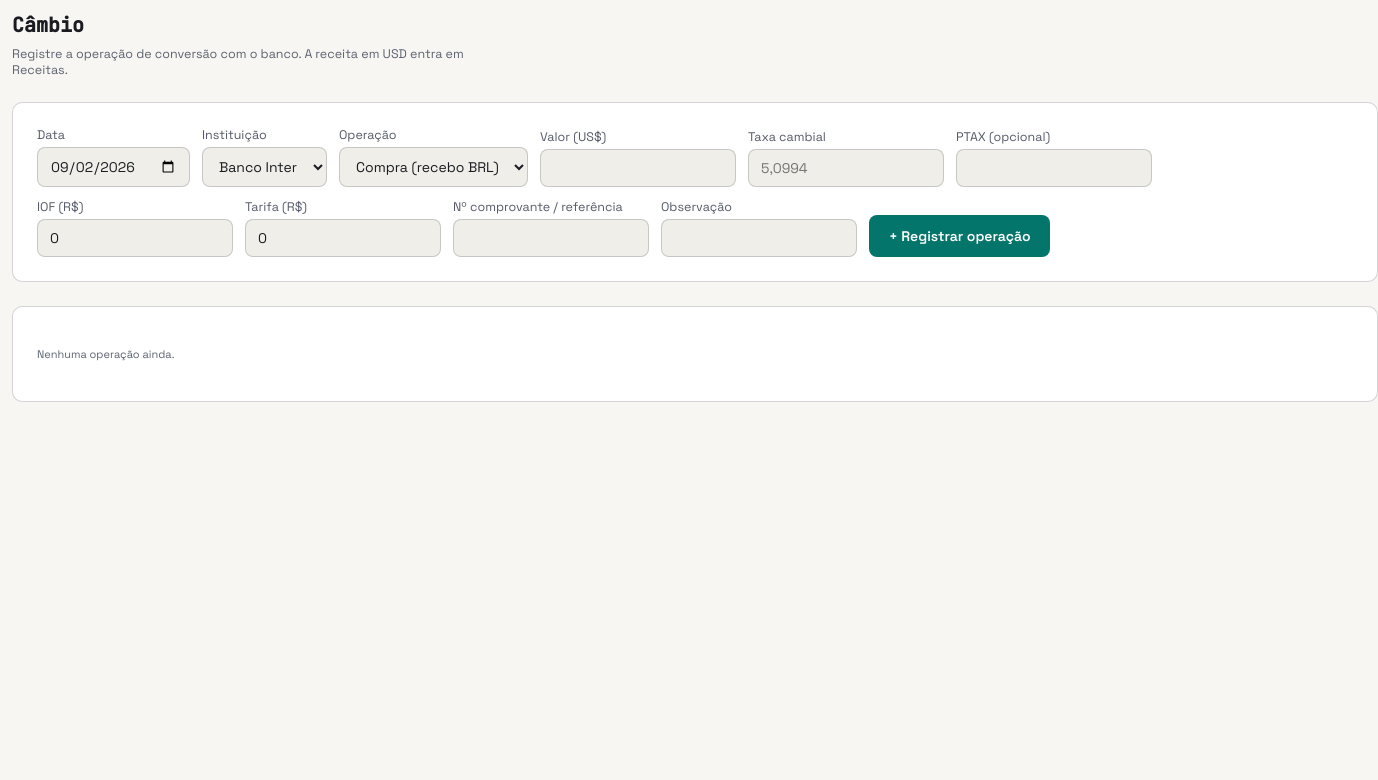
Scenario: CambioPage › shows a live BRL-líquido preview once amount and rate are entered
In the field labelled "Valor (US$)": [638, 168] box 540,149 -> 736,187, type "5000"
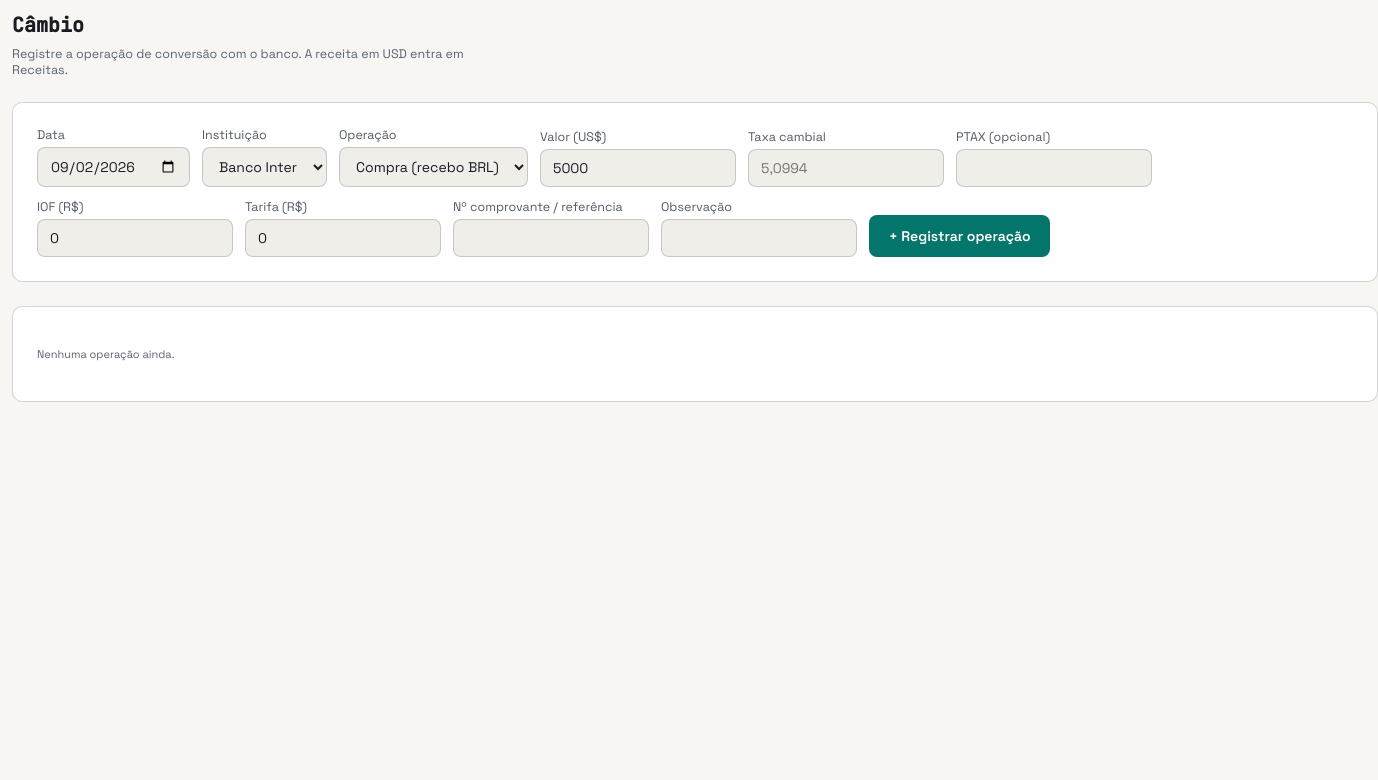
In the field labelled "Taxa cambial": [846, 168] box 748,149 -> 944,187, type "5.0994"
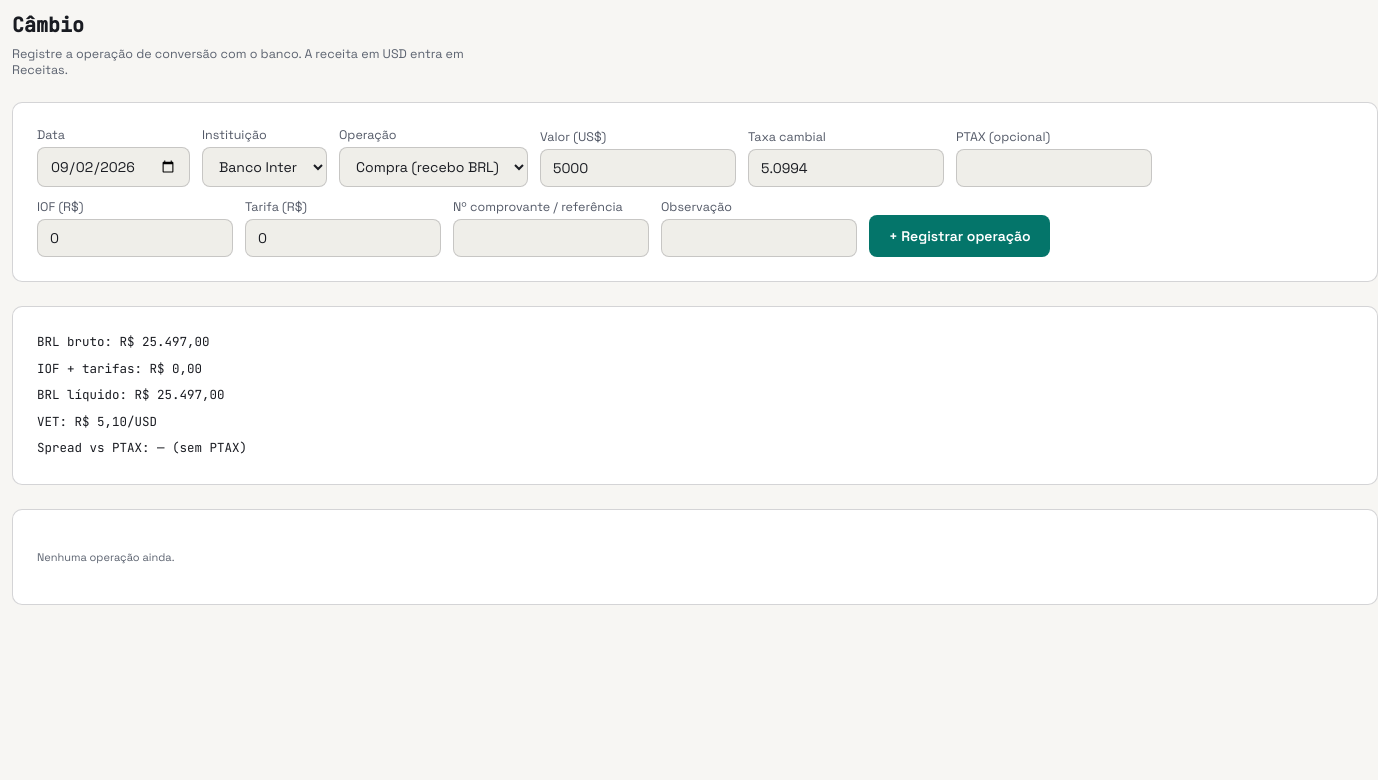
Replace the text in the field labelled "IOF (R$)" with "653,18": [135, 238] box 37,219 -> 233,257
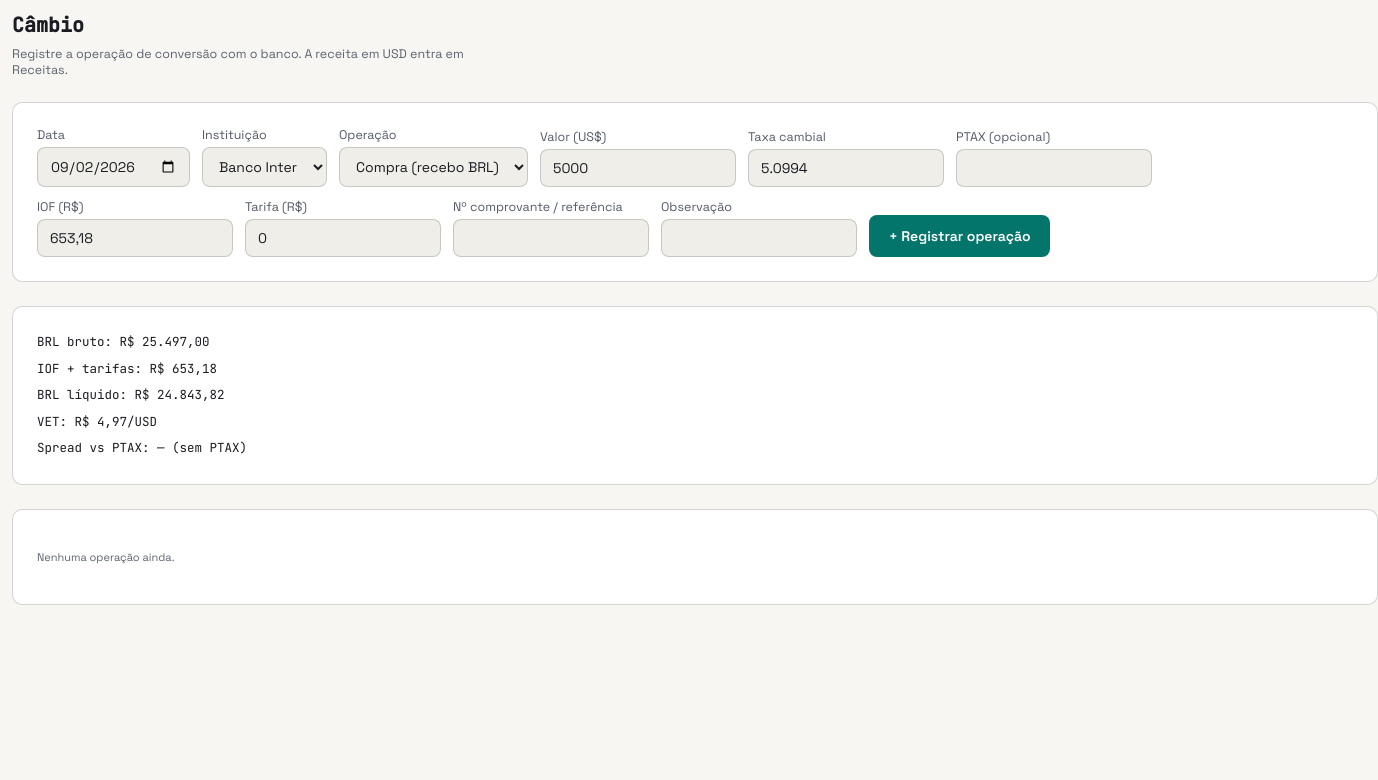
Replace the text in the field labelled "Tarifa (R$)" with "30": [343, 238] box 245,219 -> 441,257
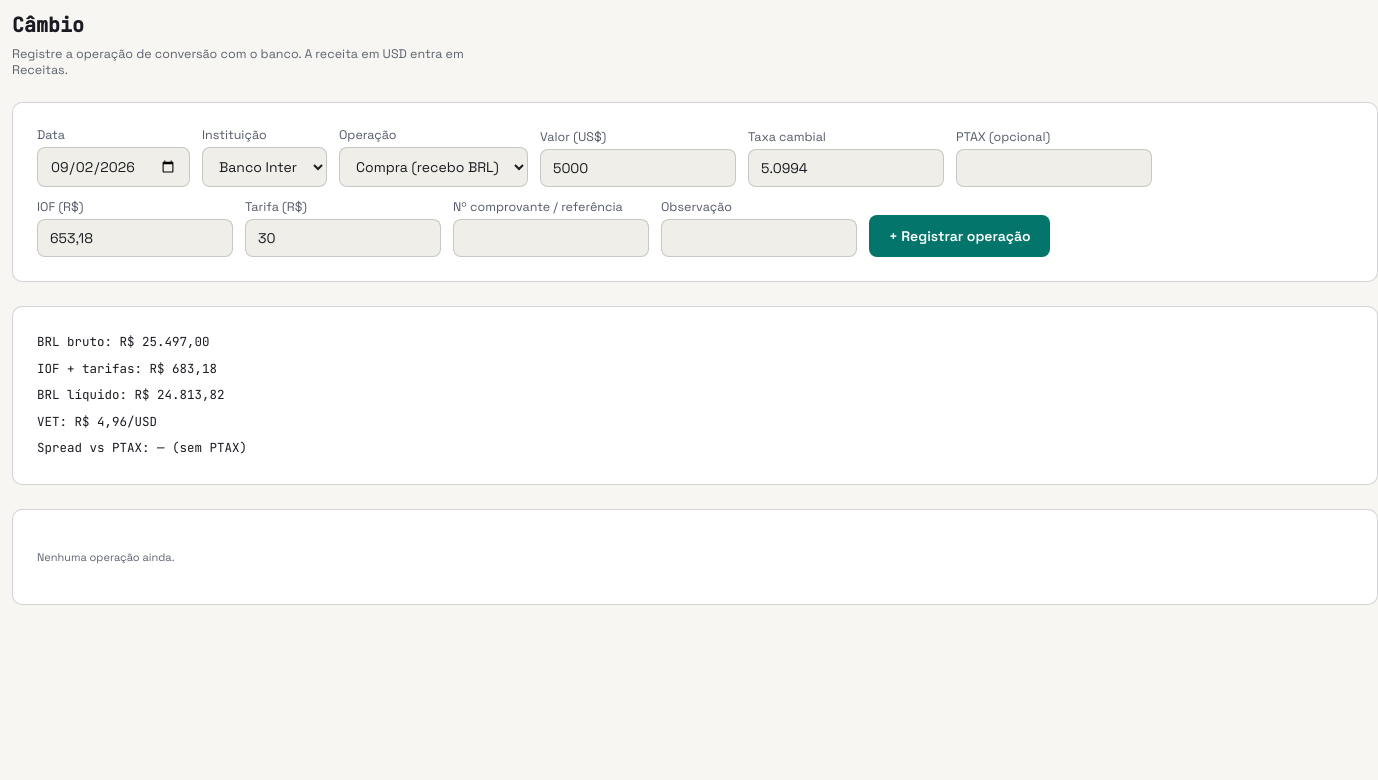
Expected: the text "BRL líquido: R$ 24.813,82" is shown, 37,386 -> 224,403
